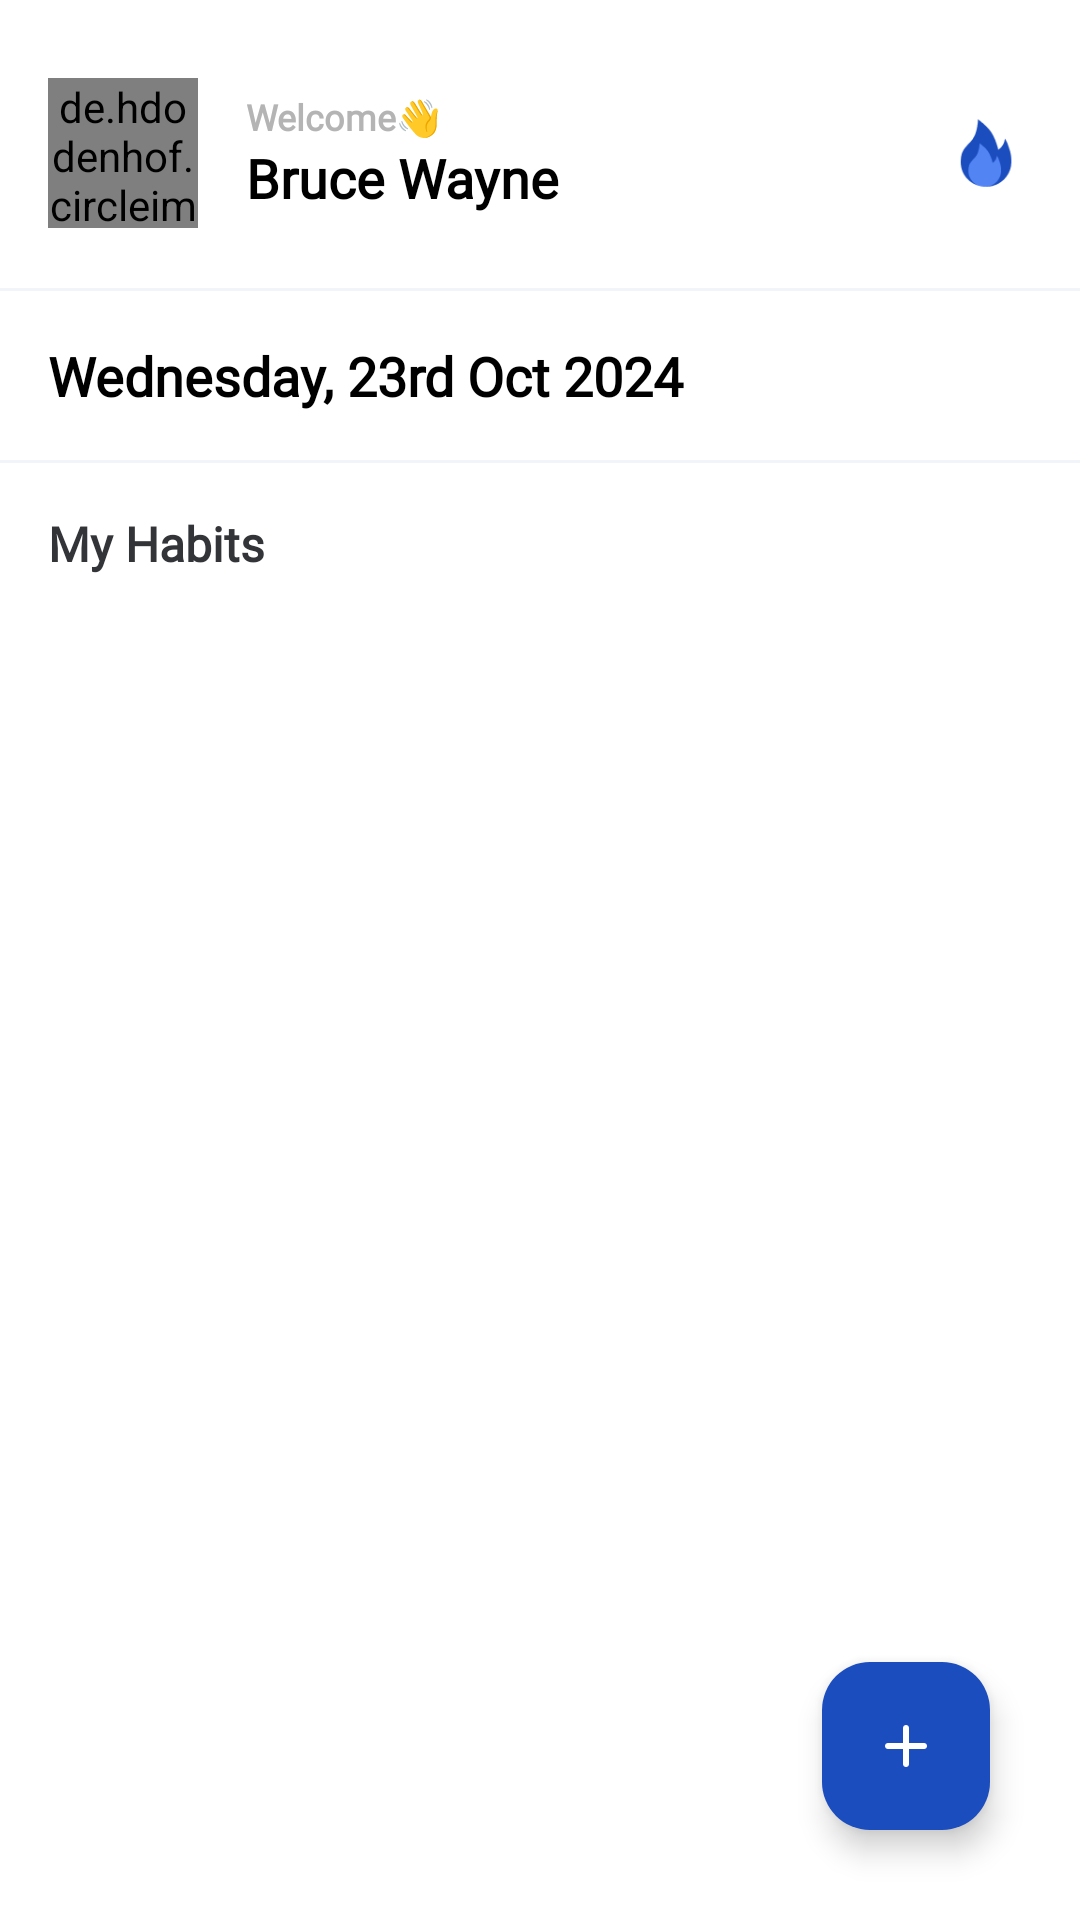

Named icons in this screenshot (1080x1920) and their centers, point (x, y):
add: point (906, 1746)
streak: point (986, 153)
